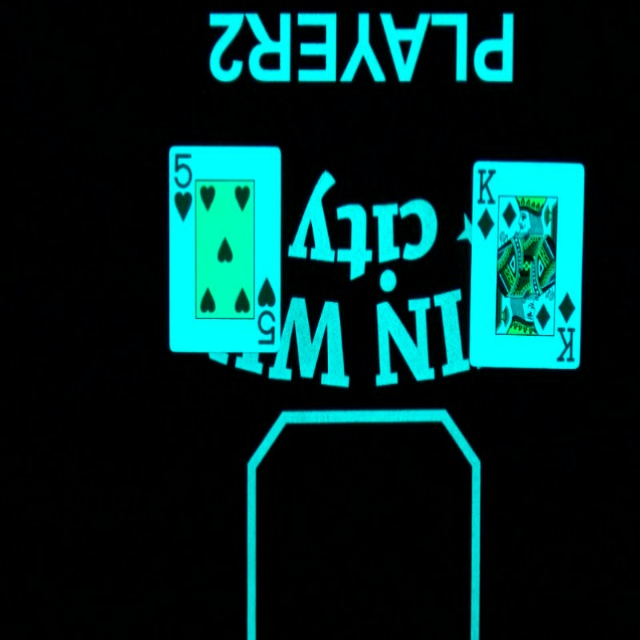5H: (169, 150, 196, 225), (254, 275, 279, 349)
KD: (473, 163, 500, 243), (554, 288, 581, 364)
